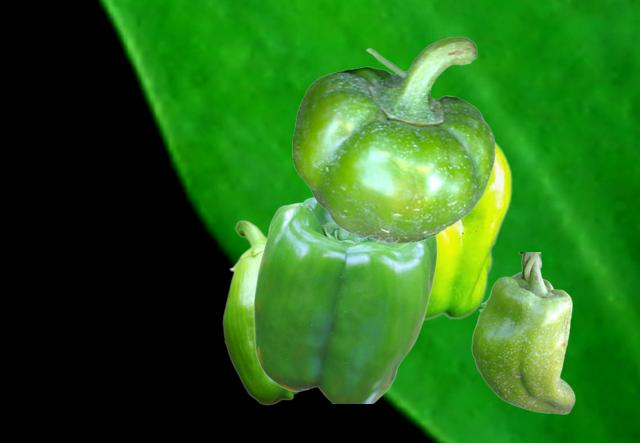bell_pepper: (292, 36, 494, 242), (253, 197, 436, 402), (471, 252, 574, 413), (222, 220, 309, 404), (425, 140, 511, 320)
